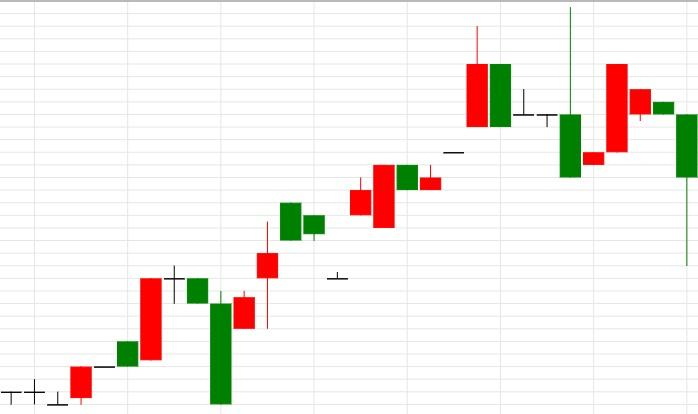evening_star_fall: (0, 266, 209, 406)
